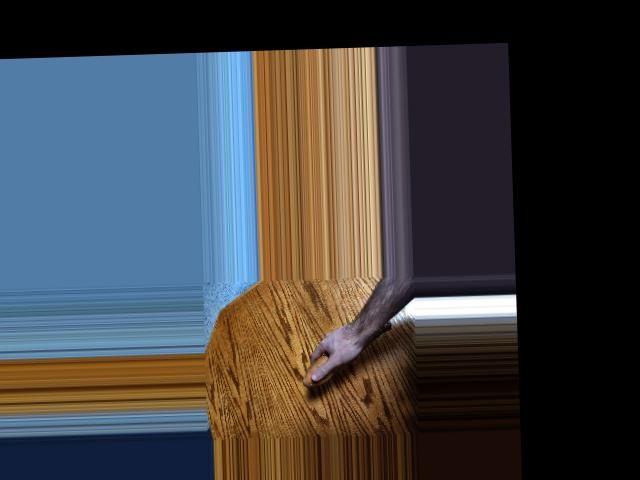sweet_potato: (301, 320, 396, 388)
